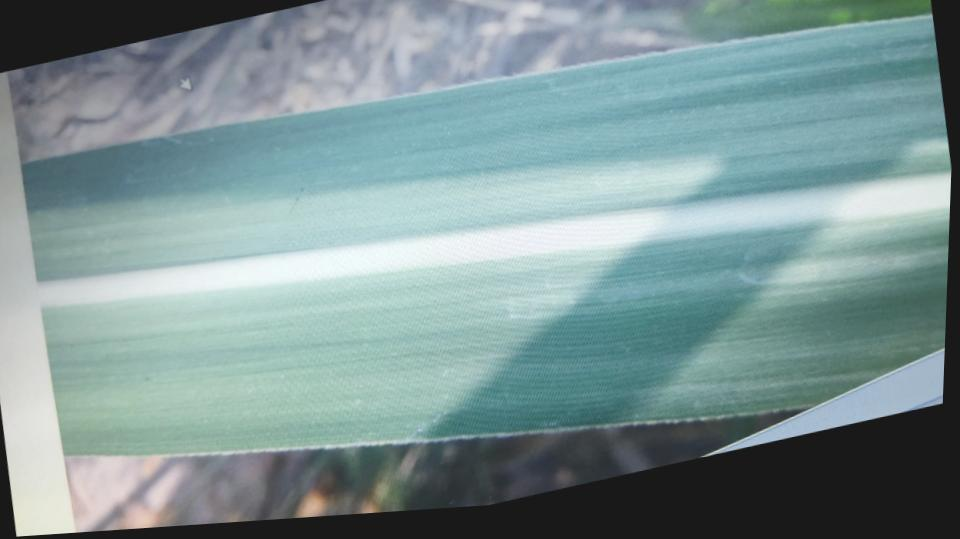Healthy: (25, 20, 951, 453)
